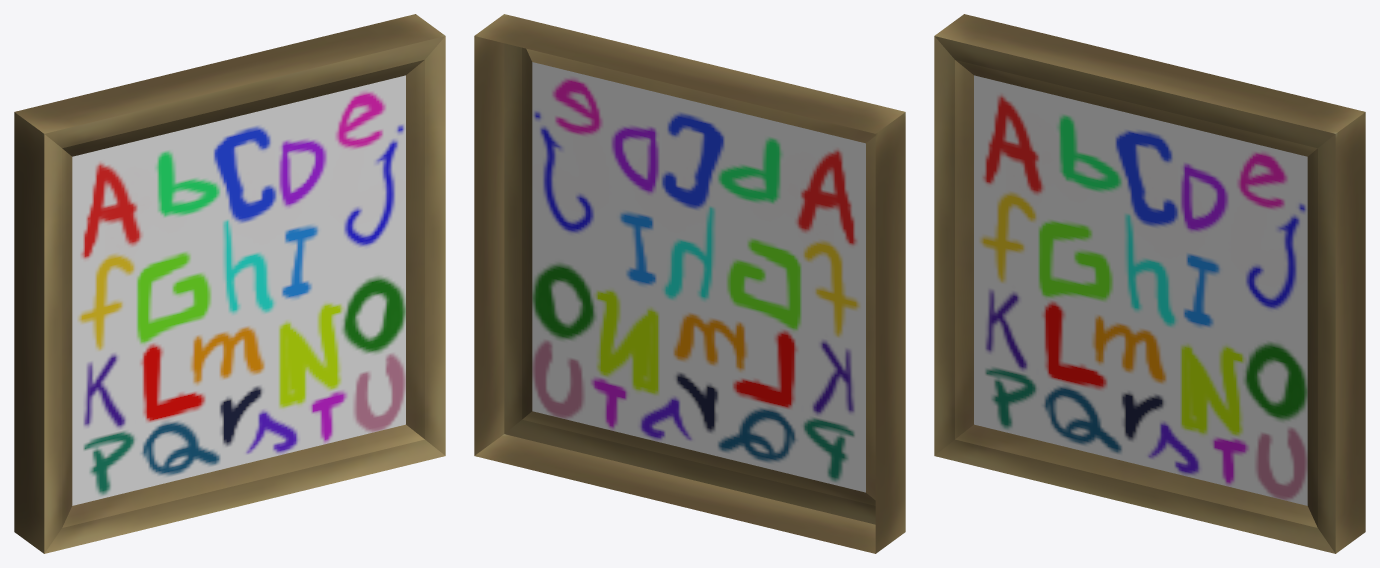
File: LettersPanel.fbx
3 renders of one model, left to right at view 1: azimuth 30°, elevation 25°; view 2: azimuth 150°, elevation 25°; view 3: azimuth 330°, elevation 25°, orthographic.
Parts seen in each view (by area): view 1: LettersPanel; view 2: LettersPanel; view 3: LettersPanel.
Part boxes in pixels (x1,y1,x2,y2): LettersPanel: [14, 14, 445, 553]; LettersPanel: [474, 14, 905, 553]; LettersPanel: [934, 14, 1365, 553].
Size of the model in its own units: 347 by 347 by 44.87.
1 material, 1 textured.
